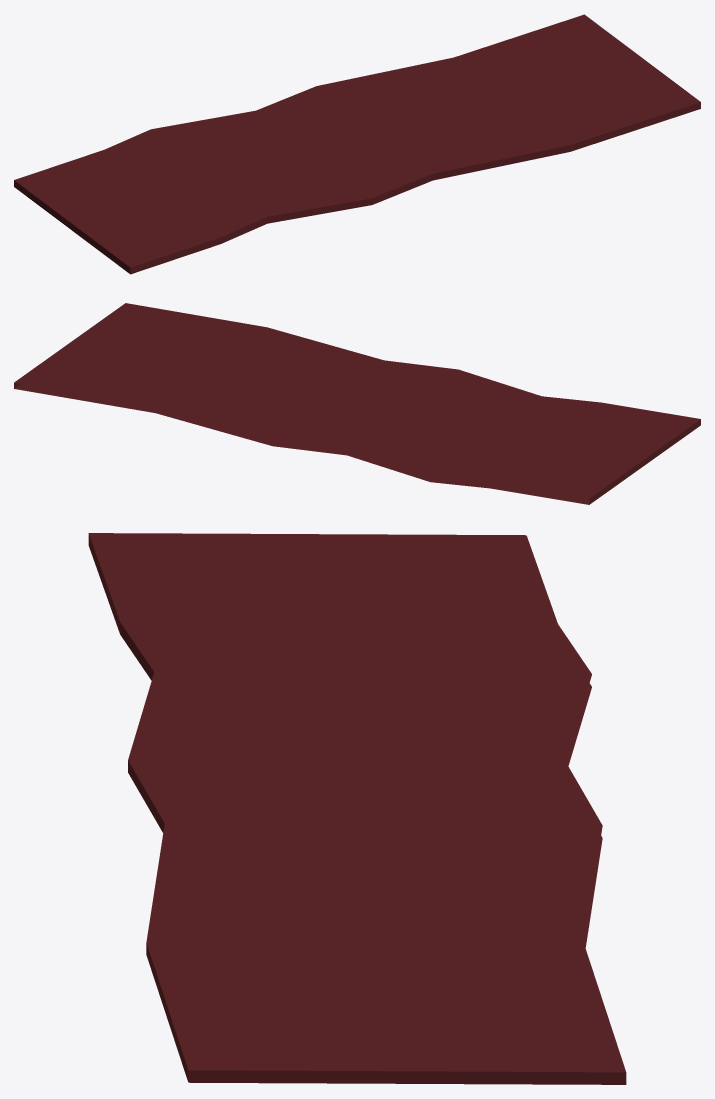
Rendered from River rich area.fbx.
The picture shows the model from 3 angles, top to bottom: view 1: azimuth 30°, elevation 25°; view 2: azimuth 150°, elevation 25°; view 3: azimuth 270°, elevation 25°; orthographic projection. The views are drawn at different scales.
Visible parts, largest first — view 1: Cube.085; view 2: Cube.085; view 3: Cube.085.
Boxes of the visible parts, bbox=[...] form: Cube.085: bbox=[14, 14, 700, 274]; Cube.085: bbox=[14, 303, 700, 504]; Cube.085: bbox=[88, 533, 626, 1084].
Size of the model in its own units: 12497 by 136 by 5265.
